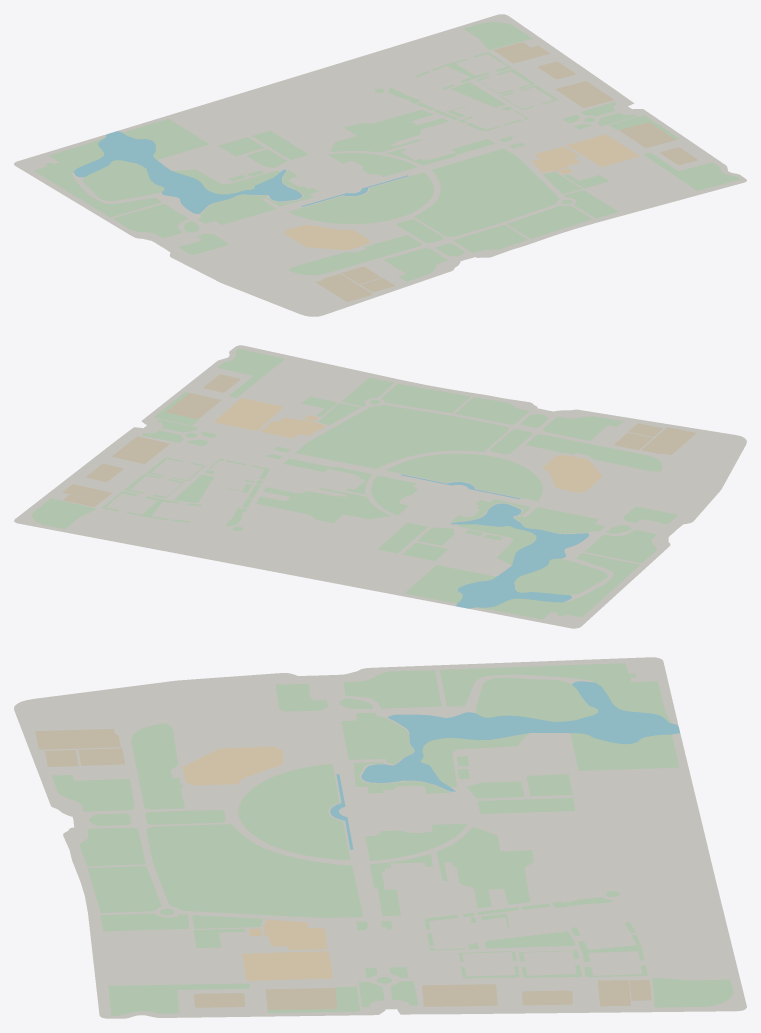
File: SEU_basemap_overlay_v04.glb
3 views of the same model, one above another, from view 1: azimuth 30°, elevation 25°; view 2: azimuth 150°, elevation 25°; view 3: azimuth 270°, elevation 25° (orthographic). The views are drawn at different scales.
Visible parts, largest first — view 1: V04_OSM_NEUTRAL_GROUND, V04_OSMWAY_300036079_green, V04_OSMWAY_332131128_water, V04_OSMWAY_171397239_green, V04_OSMWAY_300163621_green, V04_OSMWAY_300163639_green, V04_OSMWAY_300159581_green, V04_OSMWAY_1488713408_green, V04_OSMWAY_300159624_green, V04_OSMWAY_1488713407_construction_site, V04_OSMWAY_300162250_green, V04_OSMWAY_300036077_green (+17 smaller); view 2: V04_OSM_NEUTRAL_GROUND, V04_OSMWAY_300036079_green, V04_OSMWAY_332131128_water, V04_OSMWAY_171397239_green, V04_OSMWAY_300163621_green, V04_OSMWAY_300163639_green, V04_OSMWAY_300159581_green, V04_OSMWAY_1488713408_green, V04_OSMWAY_300159624_green, V04_OSMWAY_300162250_green, V04_OSMWAY_1488713407_construction_site, V04_OSMWAY_300036077_green (+18 smaller); view 3: V04_OSM_NEUTRAL_GROUND, V04_OSMWAY_300036079_green, V04_OSMWAY_332131128_water, V04_OSMWAY_171397239_green, V04_OSMWAY_300163621_green, V04_OSMWAY_300163639_green, V04_OSMWAY_300159581_green, V04_OSMWAY_1488713408_green, V04_OSMWAY_300159624_green, V04_OSMWAY_300162250_green, V04_OSMWAY_1488713407_construction_site, V04_OSMWAY_300036077_green (+25 smaller).
Boxes of the visible parts, x1,y1,x2,y2 form: V04_OSM_NEUTRAL_GROUND: (14, 14, 746, 316); V04_OSMWAY_300036079_green: (414, 148, 559, 237); V04_OSMWAY_332131128_water: (73, 131, 302, 213); V04_OSMWAY_171397239_green: (288, 172, 433, 223); V04_OSMWAY_300163621_green: (34, 137, 161, 217); V04_OSMWAY_300163639_green: (330, 109, 448, 152); V04_OSMWAY_300159581_green: (82, 160, 164, 200); V04_OSMWAY_1488713408_green: (288, 235, 421, 275); V04_OSMWAY_300159624_green: (123, 119, 209, 159); V04_OSMWAY_1488713407_construction_site: (284, 225, 370, 250); V04_OSMWAY_300162250_green: (113, 204, 188, 238); V04_OSMWAY_300036077_green: (507, 205, 592, 238); V04_OSM_NEUTRAL_GROUND: (14, 345, 746, 628); V04_OSMWAY_300036079_green: (295, 405, 508, 468); V04_OSMWAY_332131128_water: (451, 503, 589, 608); V04_OSMWAY_171397239_green: (386, 453, 542, 500); V04_OSMWAY_300163621_green: (475, 553, 639, 619); V04_OSMWAY_300163639_green: (256, 487, 389, 523); V04_OSMWAY_300159581_green: (514, 558, 607, 594); V04_OSMWAY_1488713408_green: (525, 434, 662, 471); V04_OSMWAY_300159624_green: (404, 565, 495, 603); V04_OSMWAY_300162250_green: (584, 530, 656, 563); V04_OSMWAY_1488713407_construction_site: (543, 455, 602, 492); V04_OSMWAY_300036077_green: (381, 384, 469, 413); V04_OSM_NEUTRAL_GROUND: (14, 657, 746, 1018); V04_OSMWAY_300036079_green: (146, 824, 362, 917); V04_OSMWAY_332131128_water: (361, 681, 679, 791); V04_OSMWAY_171397239_green: (238, 764, 350, 859); V04_OSMWAY_300163621_green: (439, 663, 671, 723); V04_OSMWAY_300163639_green: (436, 827, 533, 907); V04_OSMWAY_300159581_green: (476, 677, 598, 721); V04_OSMWAY_1488713408_green: (131, 723, 184, 809); V04_OSMWAY_300159624_green: (570, 733, 679, 770); V04_OSMWAY_300162250_green: (344, 670, 441, 708); V04_OSMWAY_1488713407_construction_site: (182, 746, 283, 785); V04_OSMWAY_300036077_green: (87, 866, 161, 912).
Bounding box in the file's own units: 1859 × 0.005 × 1593.
